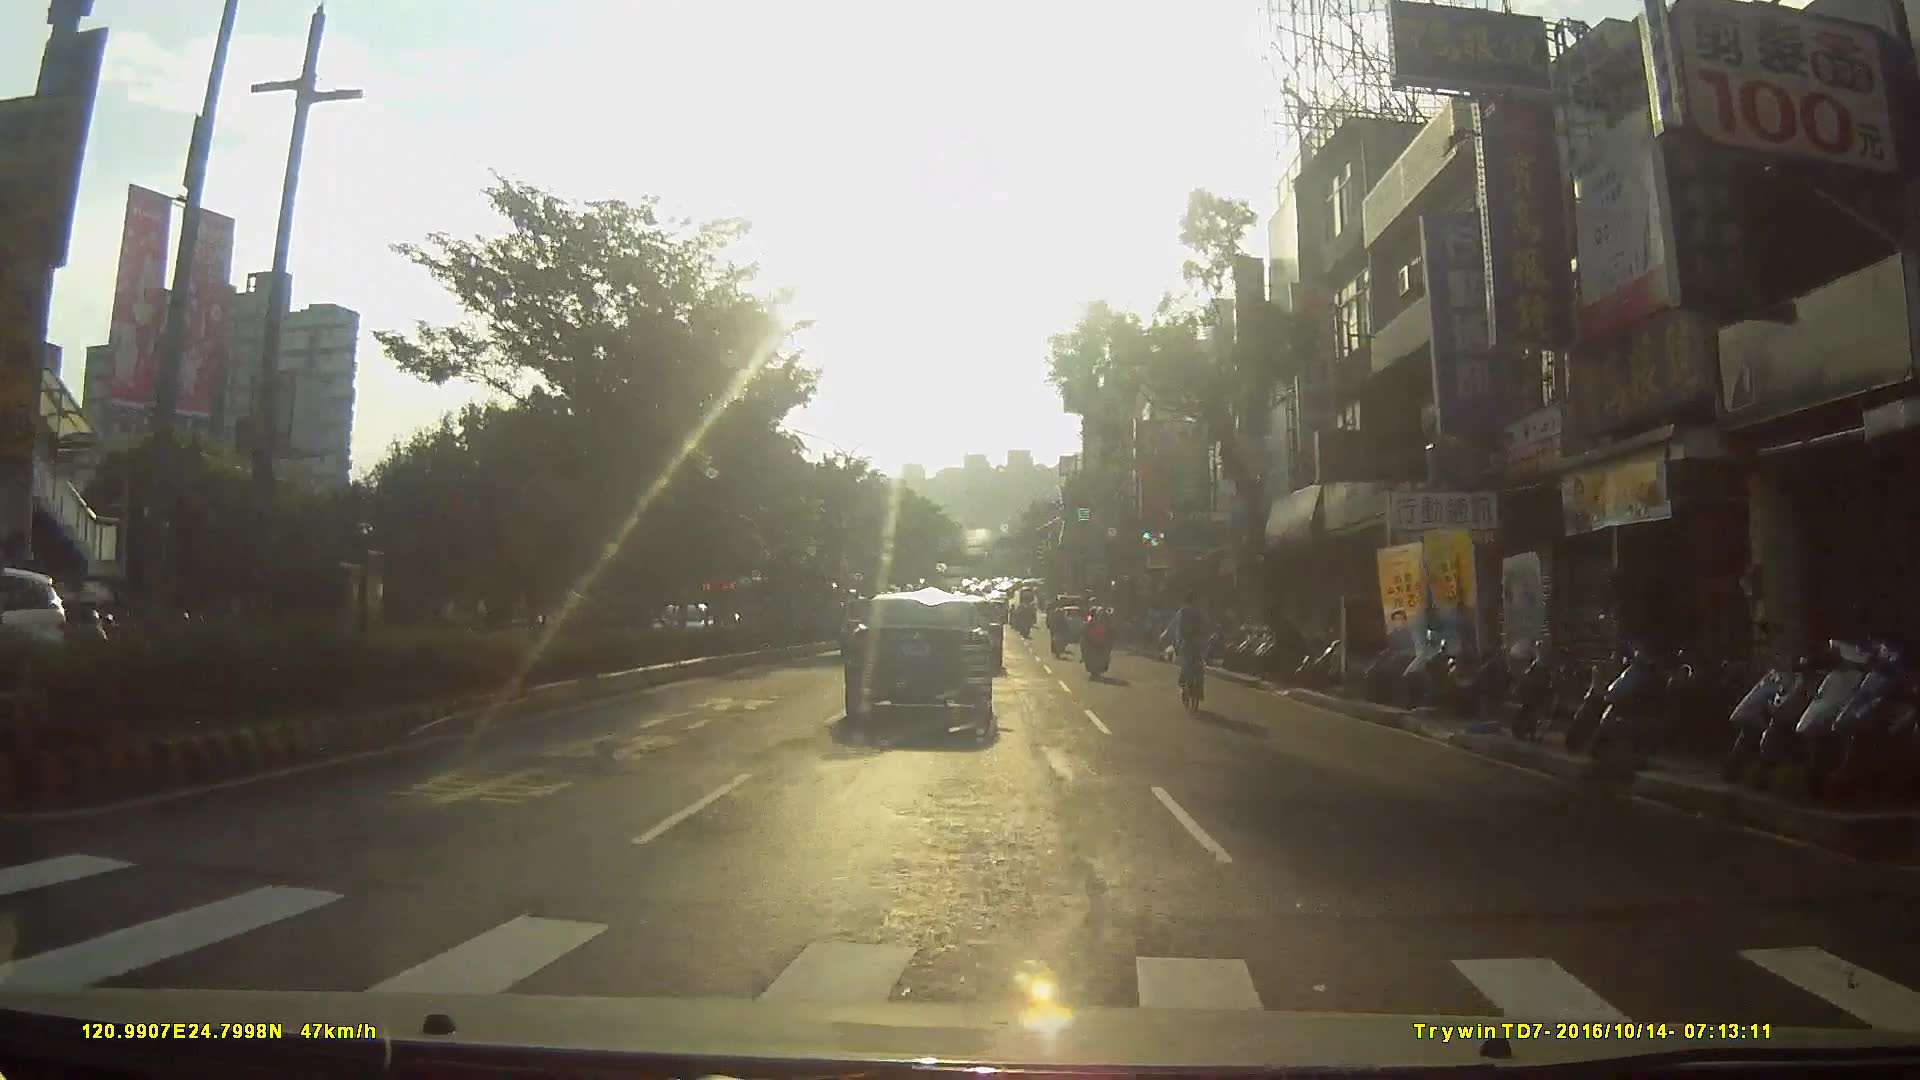rider: (1166, 585, 1223, 715), (1082, 612, 1115, 688), (1047, 609, 1071, 661)
vehicle: (843, 606, 1007, 752)
